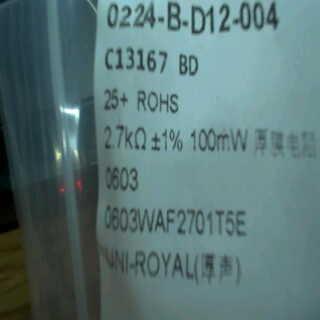2.7kR: (102, 122, 150, 158)
